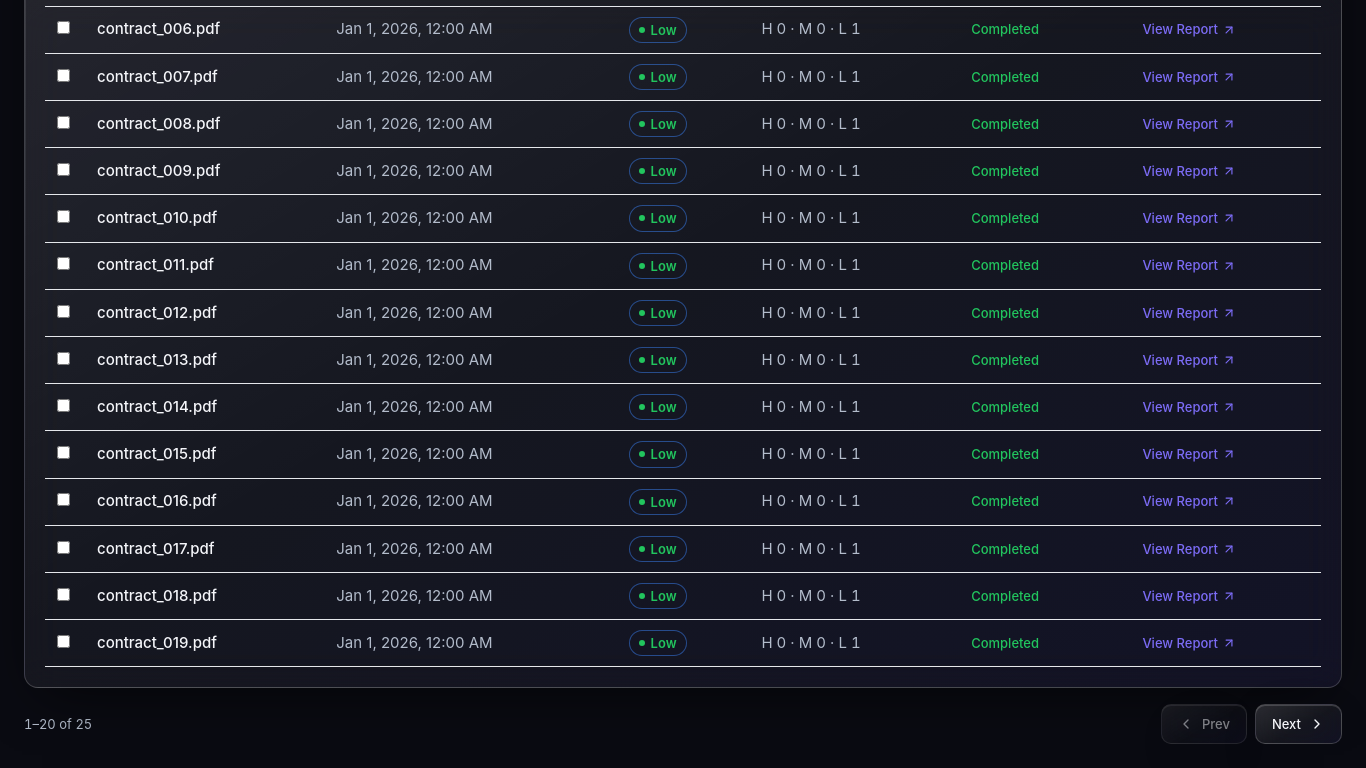
Test case: ReportHistoryView (spec 021) › AC-6: pagination appears past one page and Next advances
(page scrolled)
Expected: the link "contract_019.pdf" is shown, [97, 633, 217, 652]
Expected: the text "contract_020.pdf" is not shown
Click the button "Next" at (1298, 724), box [1255, 704, 1342, 744]
(page scrolled)
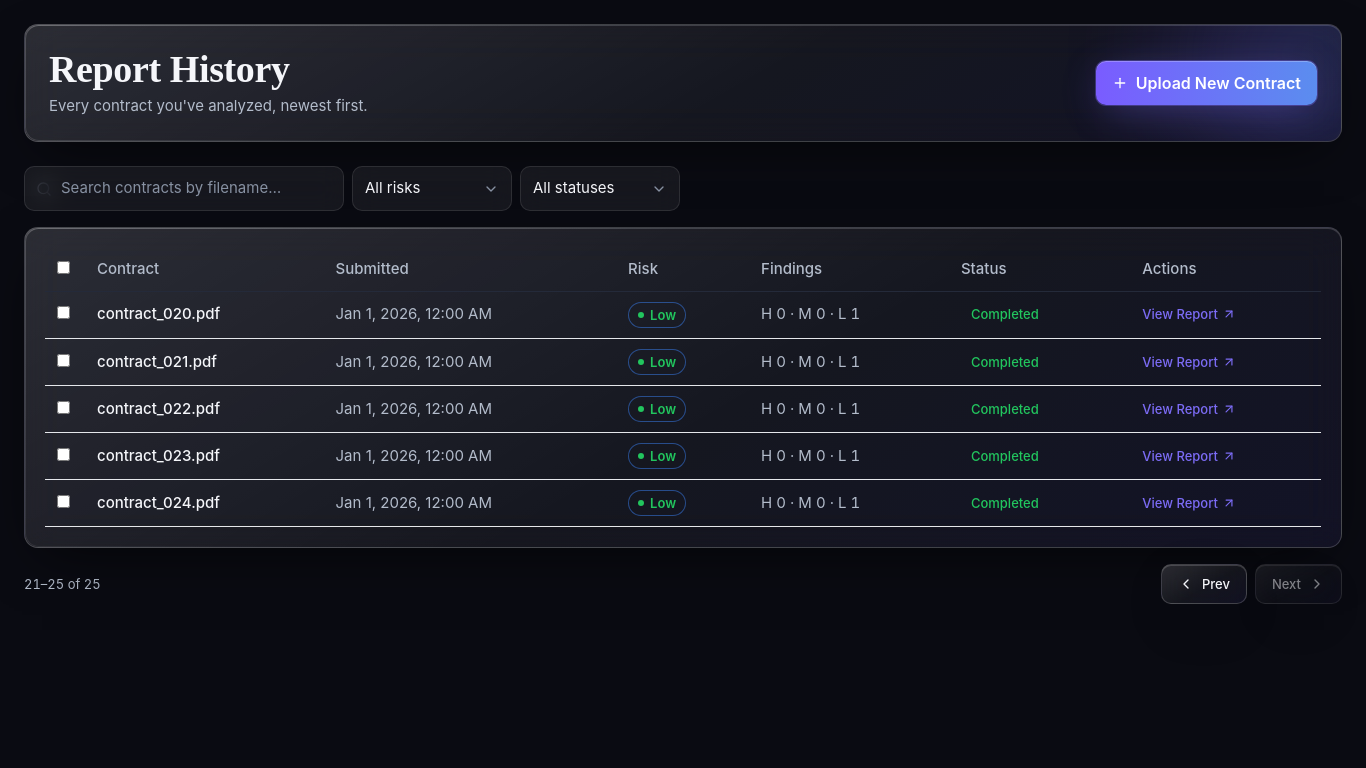
Expected: the text "21–25 of 25" is shown, [24, 575, 101, 593]
Expected: the link "contract_020.pdf" is shown, [97, 304, 220, 323]
Expected: the link "contract_024.pdf" is shown, [97, 493, 220, 512]
